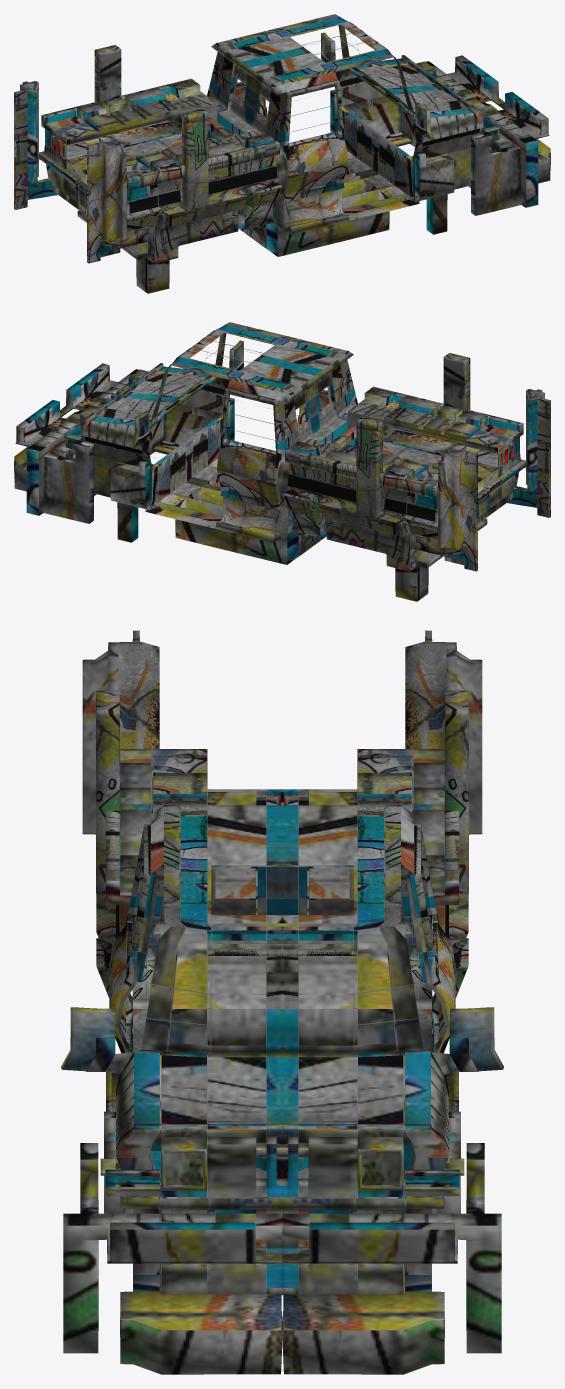
File: camionnete.obj
3 views of the same model, one above another, from view 1: azimuth 30°, elevation 25°; view 2: azimuth 150°, elevation 25°; view 3: azimuth 270°, elevation 25° (orthographic). The views are drawn at different scales.
Visible parts, largest first — view 1: Cube; view 2: Cube; view 3: Cube.
Part boxes in pixels (<box>): Cube: <box>14,14,550,293</box>; Cube: <box>14,322,550,601</box>; Cube: <box>61,630,503,1374</box>.
Bounding box in the file's own units: 47.27 × 17.87 × 19.33.
5 materials, 3 textured.
